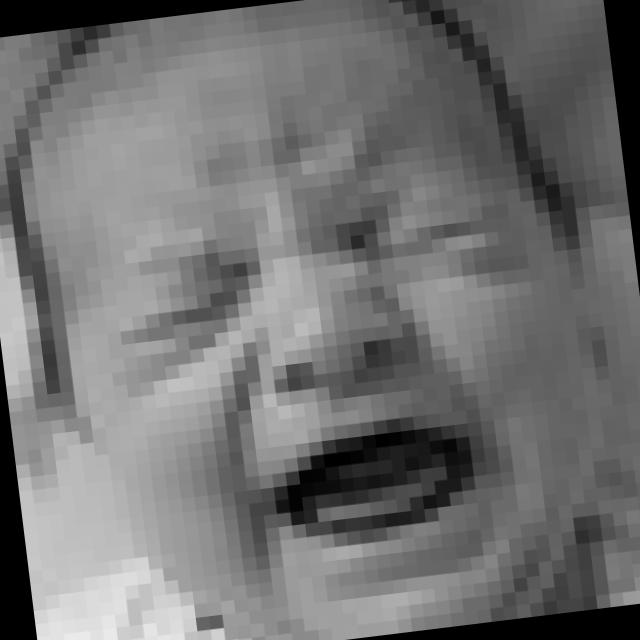sad: (94, 162, 576, 612)
